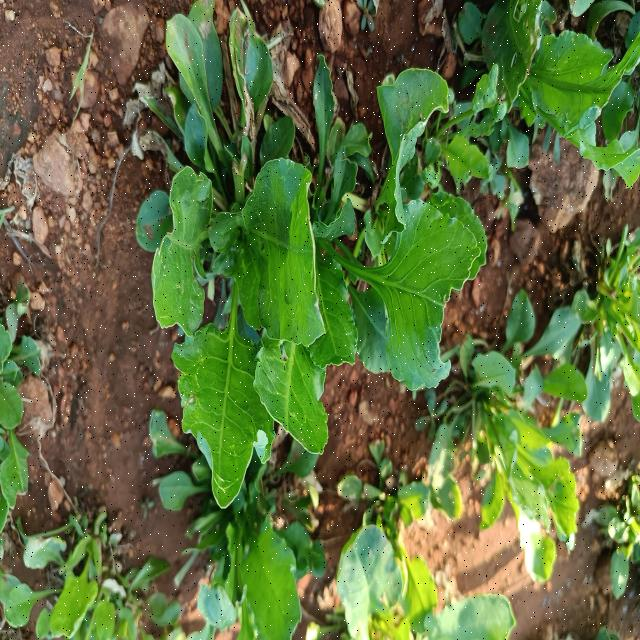leaves: (173, 260, 281, 533), (325, 201, 480, 375), (347, 57, 457, 268), (226, 156, 323, 362), (240, 266, 335, 462), (152, 1, 249, 180), (149, 159, 223, 338), (220, 1, 287, 174), (294, 244, 362, 386), (310, 60, 342, 260), (329, 121, 376, 220), (126, 192, 181, 268)
